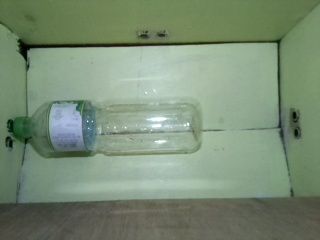bottle: (7, 99, 208, 158)
